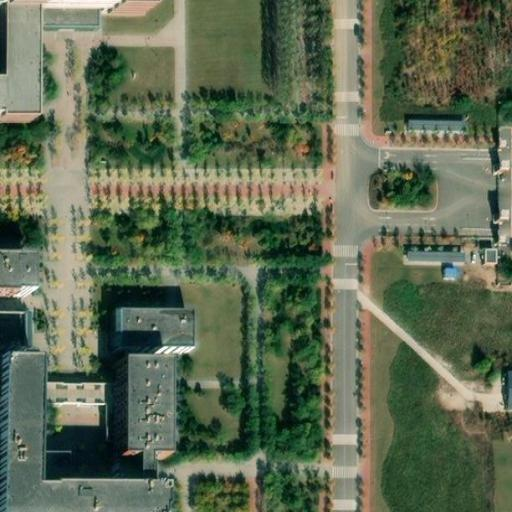building: (0, 0, 155, 127), (127, 351, 175, 478), (118, 309, 197, 345), (40, 378, 108, 405), (496, 167, 512, 218), (407, 250, 463, 263), (496, 124, 511, 169), (408, 120, 463, 131), (486, 248, 498, 262), (508, 373, 512, 409), (443, 268, 457, 278)
